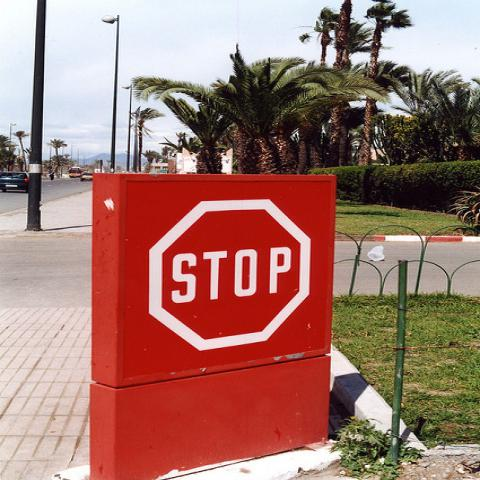car: (1, 172, 29, 192), (80, 172, 93, 182)
